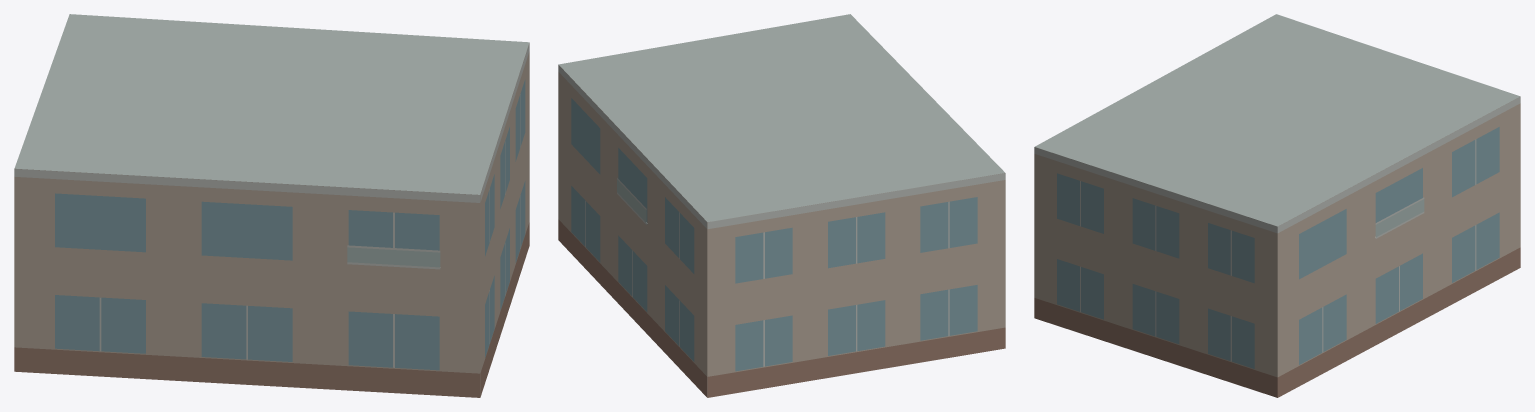
File: survey-upis-32850864.glb
3 renders of one model, left to right at view 1: azimuth 30°, elevation 25°; view 2: azimuth 150°, elevation 25°; view 3: azimuth 270°, elevation 25°, orthographic. The views are drawn at different scales.
Parts seen in each view (by area): view 1: survey-upis-32850864.tmp; view 2: survey-upis-32850864.tmp; view 3: survey-upis-32850864.tmp.
Boxes of the visible parts, <box> form: survey-upis-32850864.tmp: <box>14,14,529,397</box>; survey-upis-32850864.tmp: <box>558,14,1005,397</box>; survey-upis-32850864.tmp: <box>1034,14,1520,397</box>.
Bounding box in the file's own units: 16.24 × 6.1 × 15.7.
